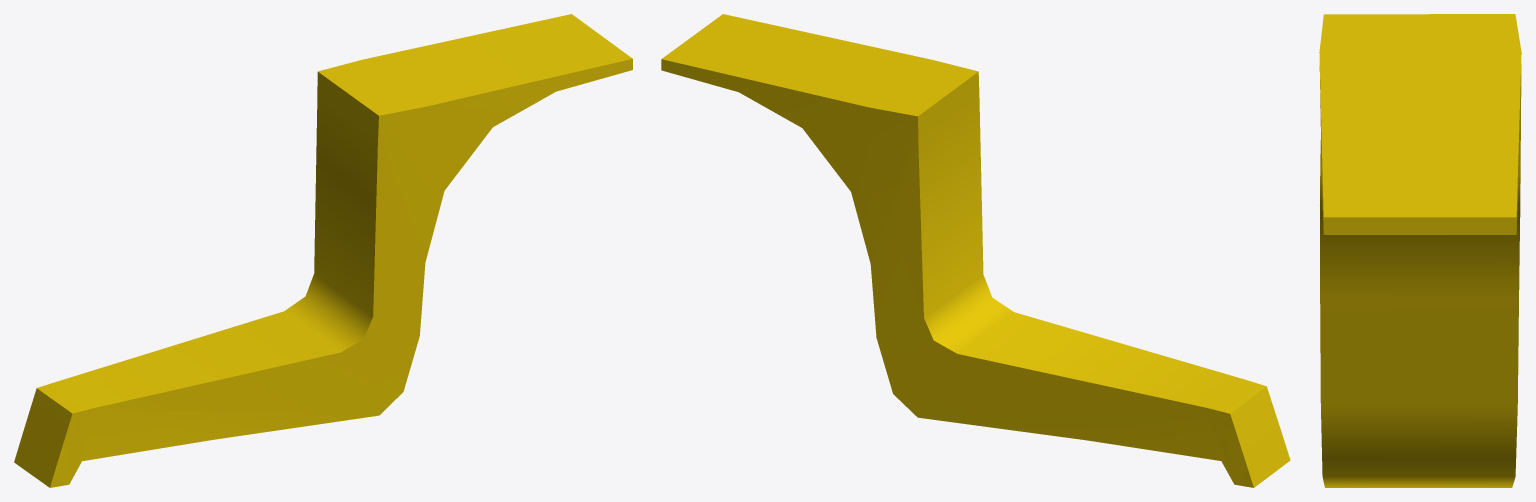
File: Gatilho2.fbx
3 views of the same model, side by side, from view 1: azimuth 30°, elevation 25°; view 2: azimuth 150°, elevation 25°; view 3: azimuth 270°, elevation 25° (orthographic). The views are drawn at different scales.
Parts seen in each view (by area): view 1: Gatilho2; view 2: Gatilho2; view 3: Gatilho2.
Boxes of the visible parts, x1,y1,x2,y2 form: Gatilho2: [14, 14, 632, 487]; Gatilho2: [661, 14, 1290, 487]; Gatilho2: [1319, 14, 1521, 487].
Size of the model in its own units: 199 by 100 by 38.45.
